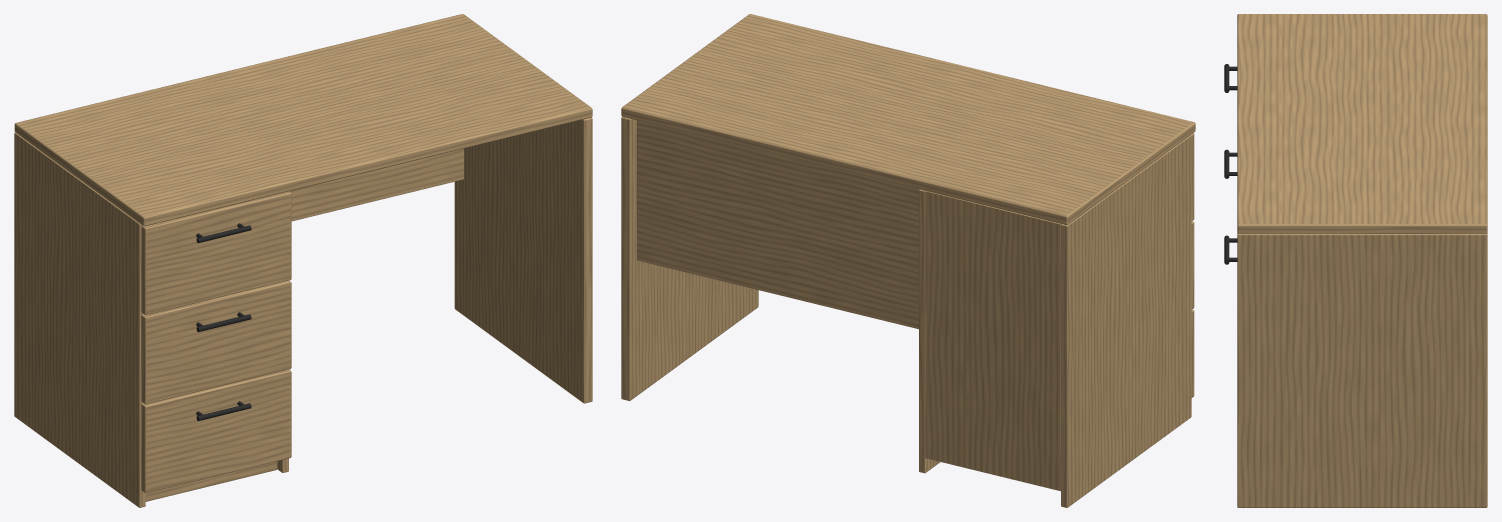
File: study-desk.glb
3 views of the same model, side by side, from view 1: azimuth 30°, elevation 25°; view 2: azimuth 150°, elevation 25°; view 3: azimuth 270°, elevation 25° (orthographic). The views are drawn at different scales.
Parts seen in each view (by area): view 1: Wood, Metal; view 2: Wood; view 3: Wood, Metal.
Boxes of the visible parts, box(x1,y1,x2,y2) form: Wood: box(14, 14, 592, 507); Metal: box(196, 223, 251, 420); Wood: box(621, 14, 1195, 507); Wood: box(1237, 14, 1487, 507); Metal: box(1224, 64, 1237, 264).
Size of the model in its own units: 1.2 by 0.75 by 0.631.
2 materials, 1 textured.
